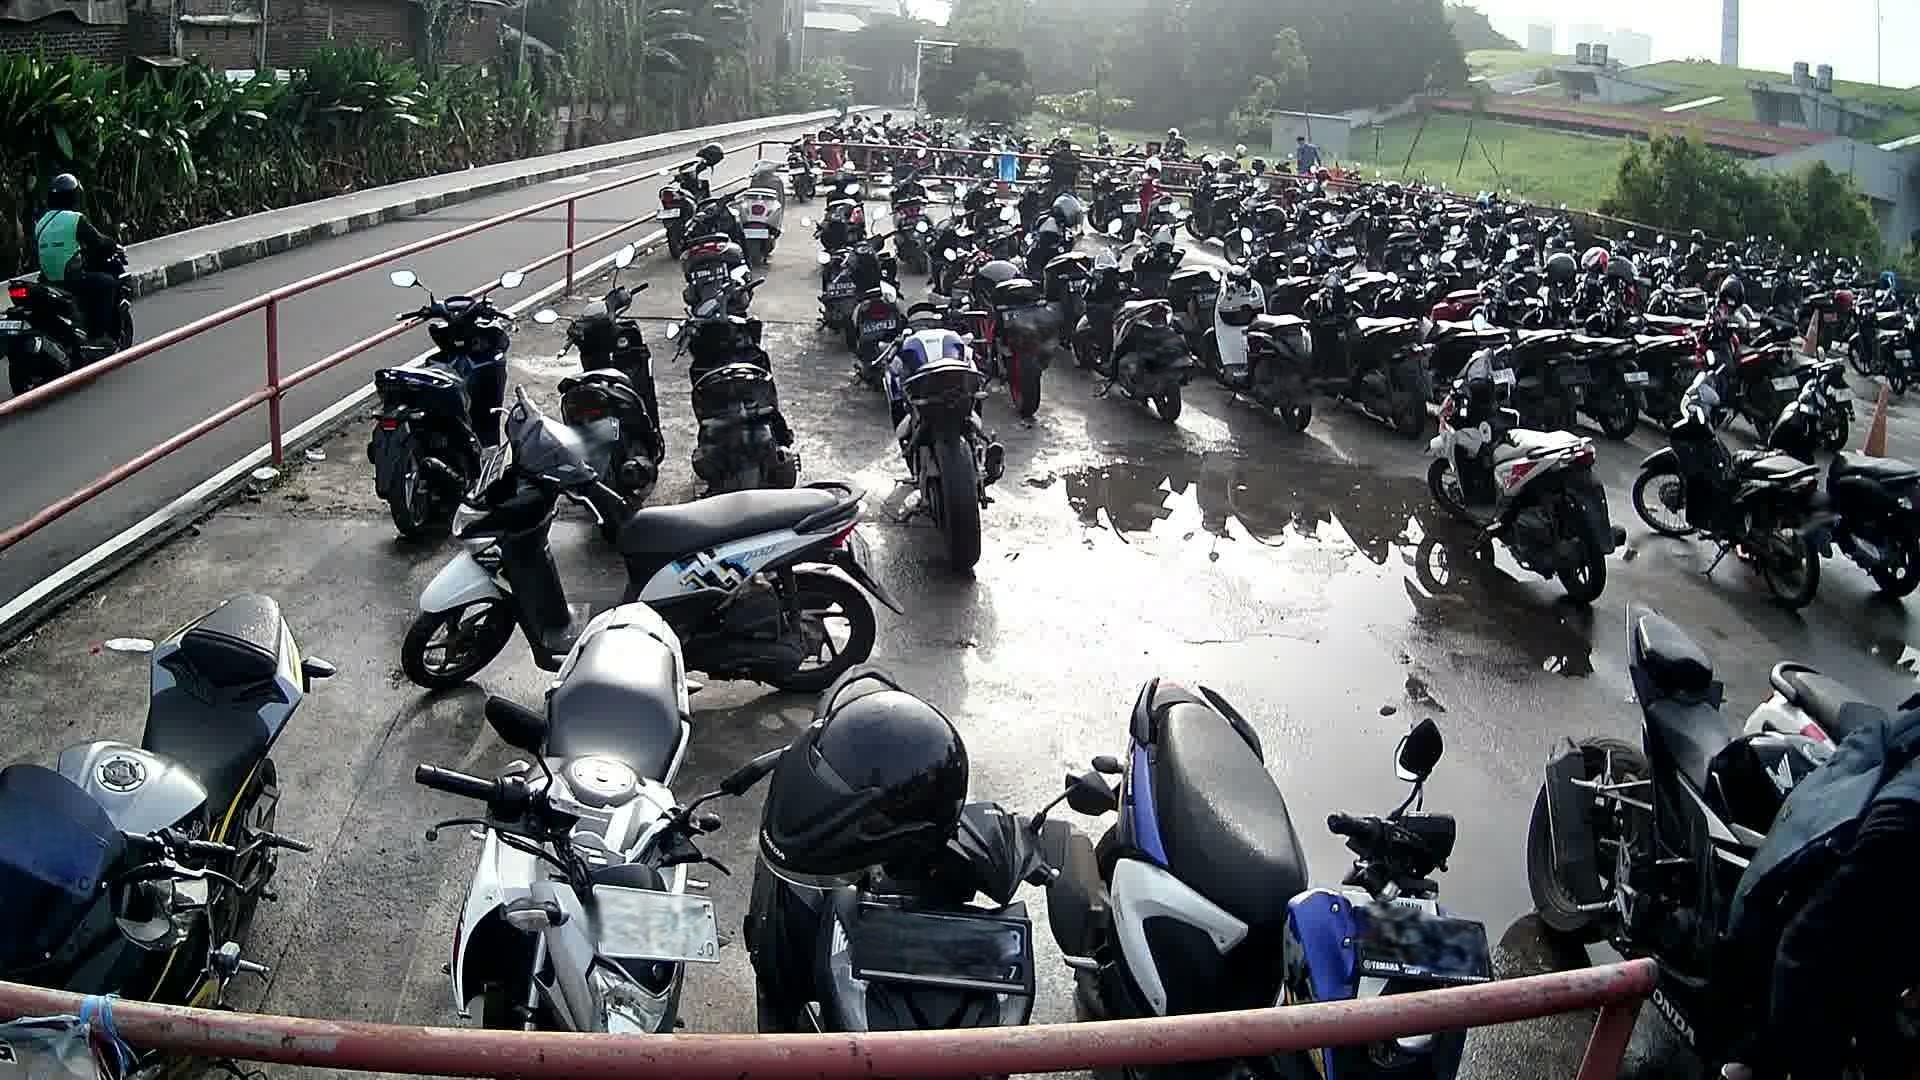motorcycle: (1531, 596, 1920, 1079), (1054, 671, 1502, 1080), (0, 592, 340, 1080), (401, 386, 901, 692), (407, 601, 737, 1040), (749, 667, 1046, 1030), (1425, 339, 1625, 604), (1636, 351, 1824, 609), (367, 269, 522, 550), (866, 284, 1009, 572), (533, 252, 669, 542), (1768, 357, 1920, 595), (661, 260, 804, 492)
